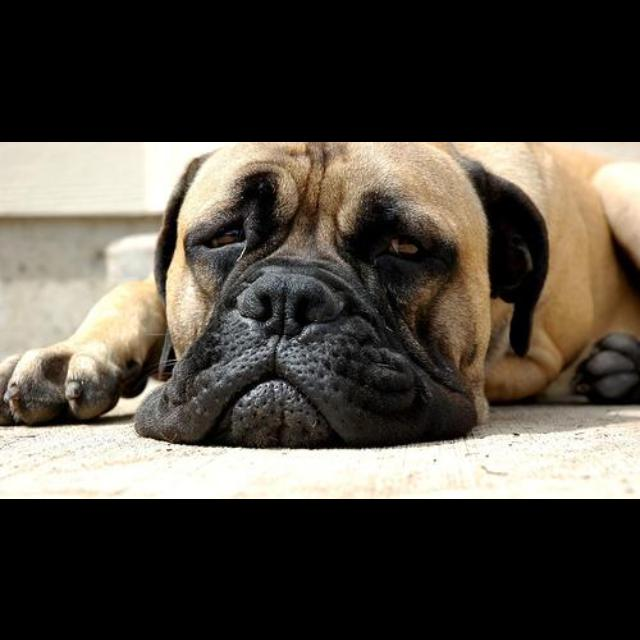bullmastiff: (1, 143, 639, 448)
